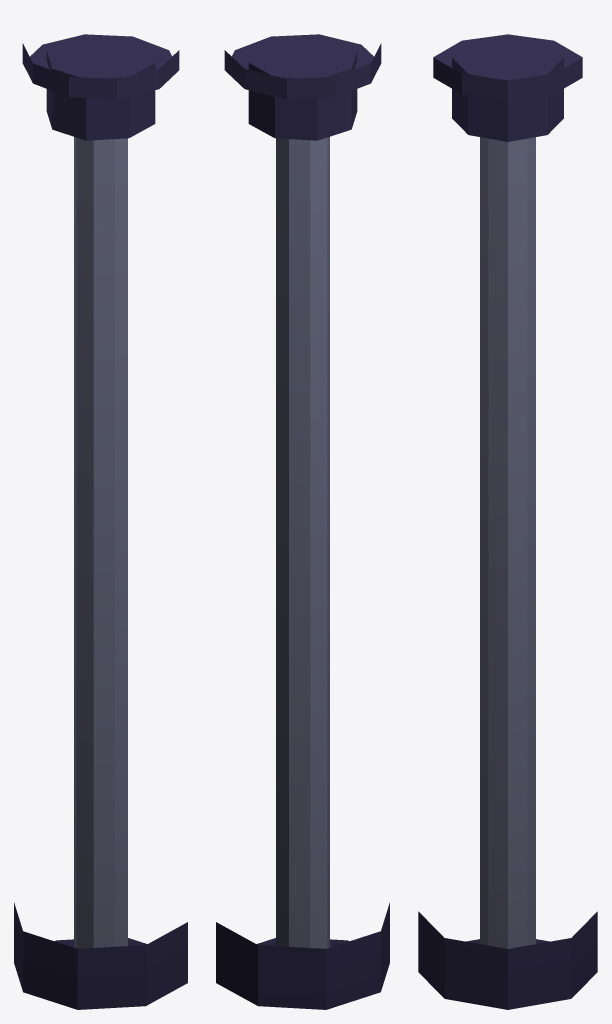
File: hop_post.glb
The picture shows the model from 3 angles, left to right: view 1: azimuth 30°, elevation 25°; view 2: azimuth 150°, elevation 25°; view 3: azimuth 270°, elevation 25°; orthographic projection.
Parts seen in each view (by area): view 1: hop_post; view 2: hop_post; view 3: hop_post.
Part boxes in pixels (bbox=[...]): hop_post: bbox=[14, 34, 187, 1009]; hop_post: bbox=[216, 34, 389, 1009]; hop_post: bbox=[418, 34, 597, 1009].
Size of the model in its own units: 0.32 by 1.82 by 0.32.
